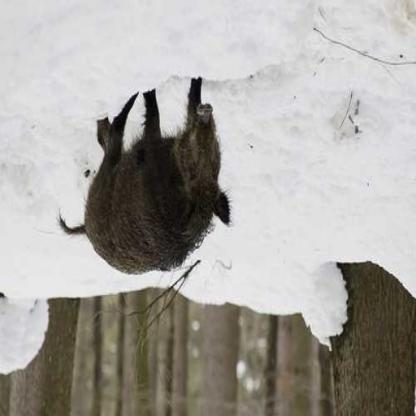boar: (24, 80, 230, 304)
